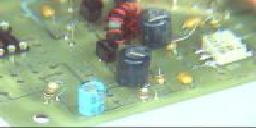Electrolytic-Capacitor: (76, 79, 106, 113)
